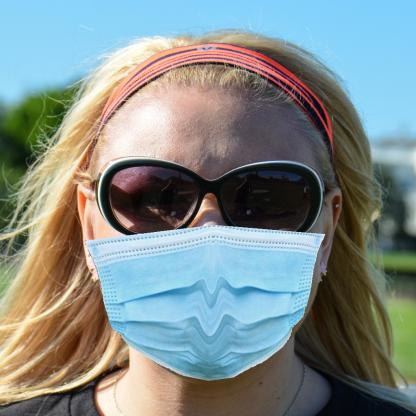Correctly_Masked: (85, 86, 331, 382)
